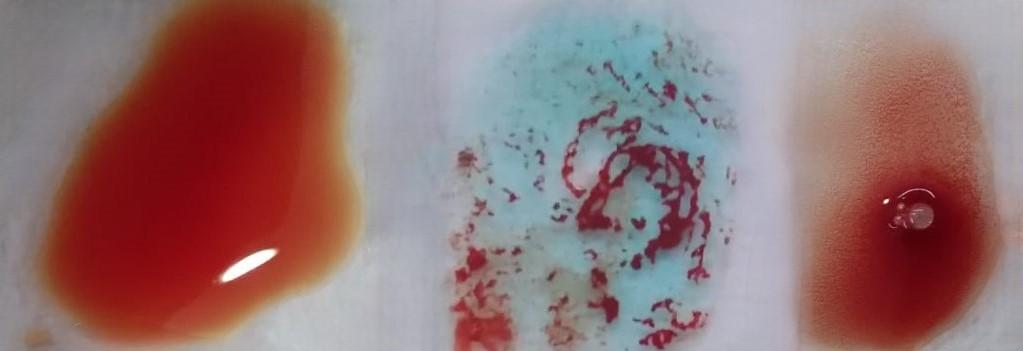A: (439, 18, 733, 351)
D: (793, 28, 1000, 346)
